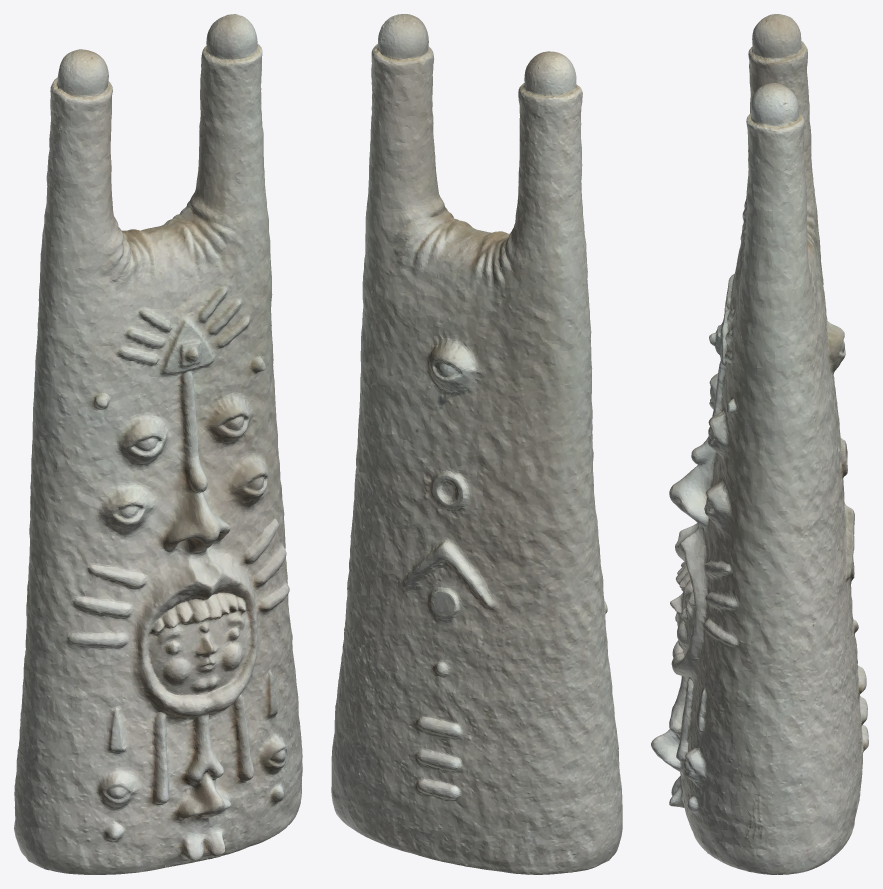
The model's file is paqo.glb.
3 renders of one model, left to right at view 1: azimuth 30°, elevation 25°; view 2: azimuth 150°, elevation 25°; view 3: azimuth 270°, elevation 25°, orthographic. The views are drawn at different scales.
Bounding box in the file's own units: 0.4429 × 1.24 × 0.3204.
Materials: 1 (1 with a texture image).
